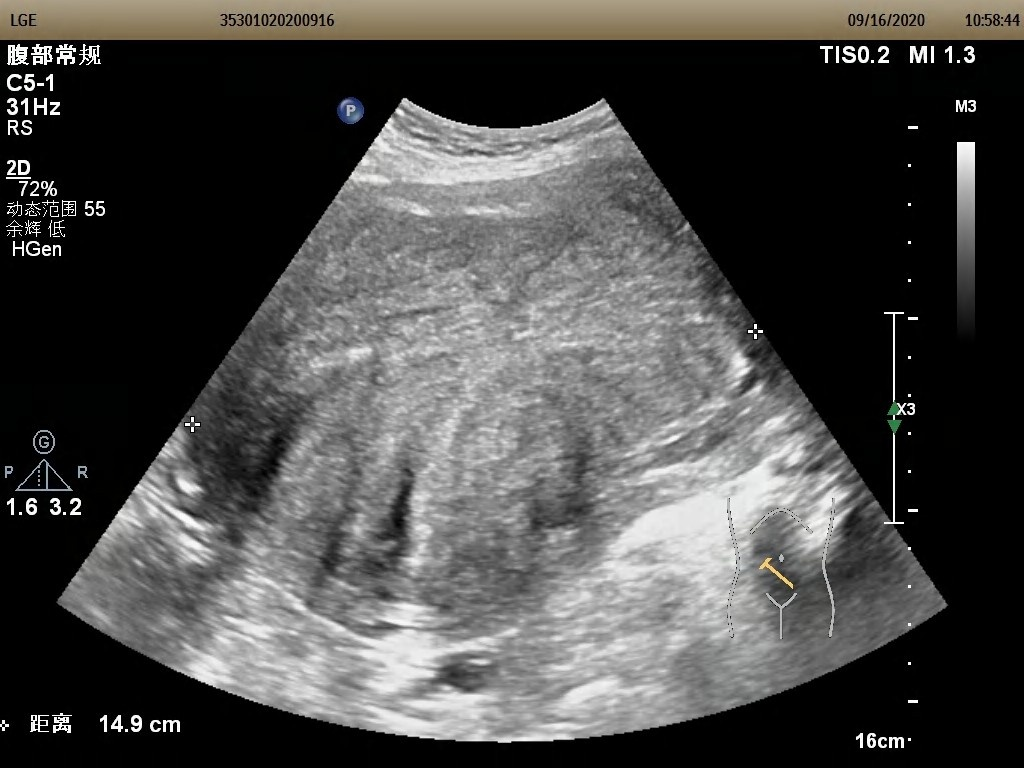肌瘤: (191, 329, 754, 597)
